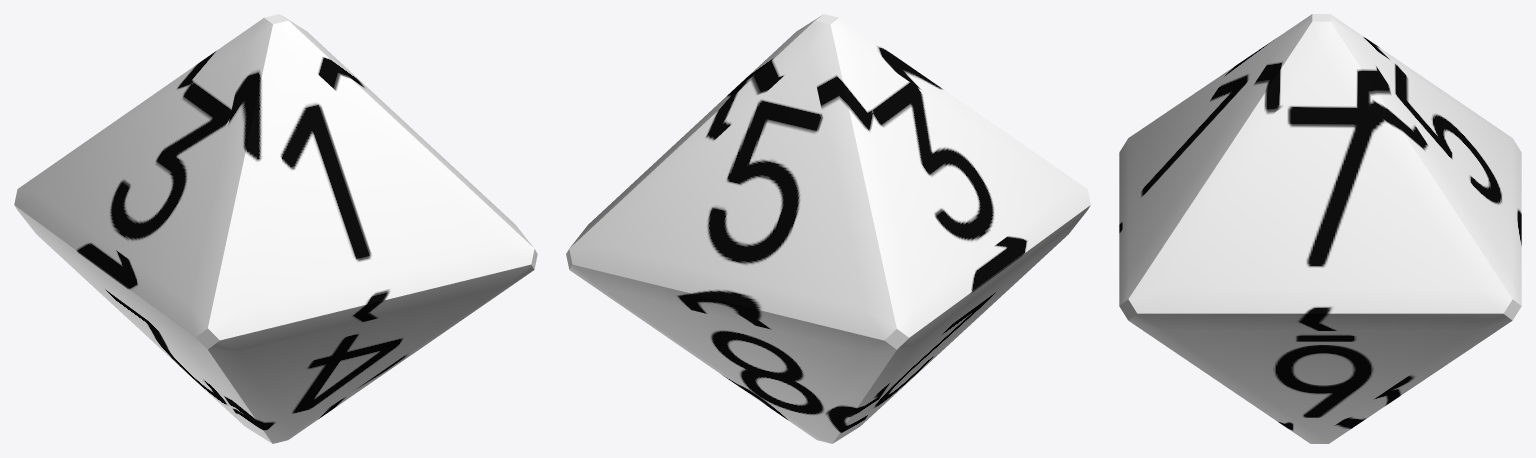
Rendered from Dado8_Col.FBX.
3 views of the same model, side by side, from view 1: azimuth 30°, elevation 25°; view 2: azimuth 150°, elevation 25°; view 3: azimuth 270°, elevation 25° (orthographic).
Visible parts, largest first — view 1: Dado8_Col; view 2: Dado8_Col; view 3: Dado8_Col.
Part boxes in pixels (<box>): Dado8_Col: <box>14,14,537,443</box>; Dado8_Col: <box>566,14,1090,443</box>; Dado8_Col: <box>1119,14,1521,443</box>.
Size of the model in its own units: 215 by 251 by 217.
